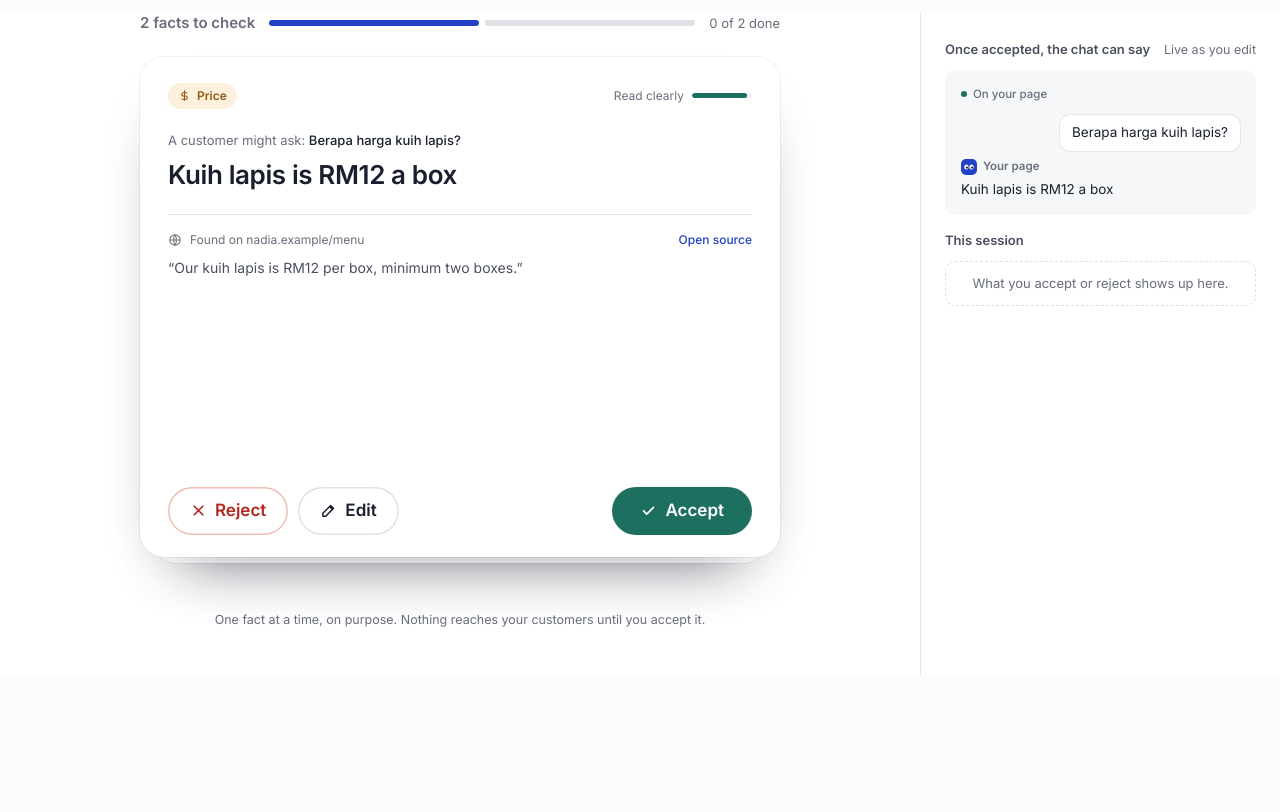
Test case: ReviewQueue › keeps an edited card, showing the corrected claim -- an edit is not an acceptance
Step 1. Click the button "Edit" → x=348, y=510, box [298,486,399,534]
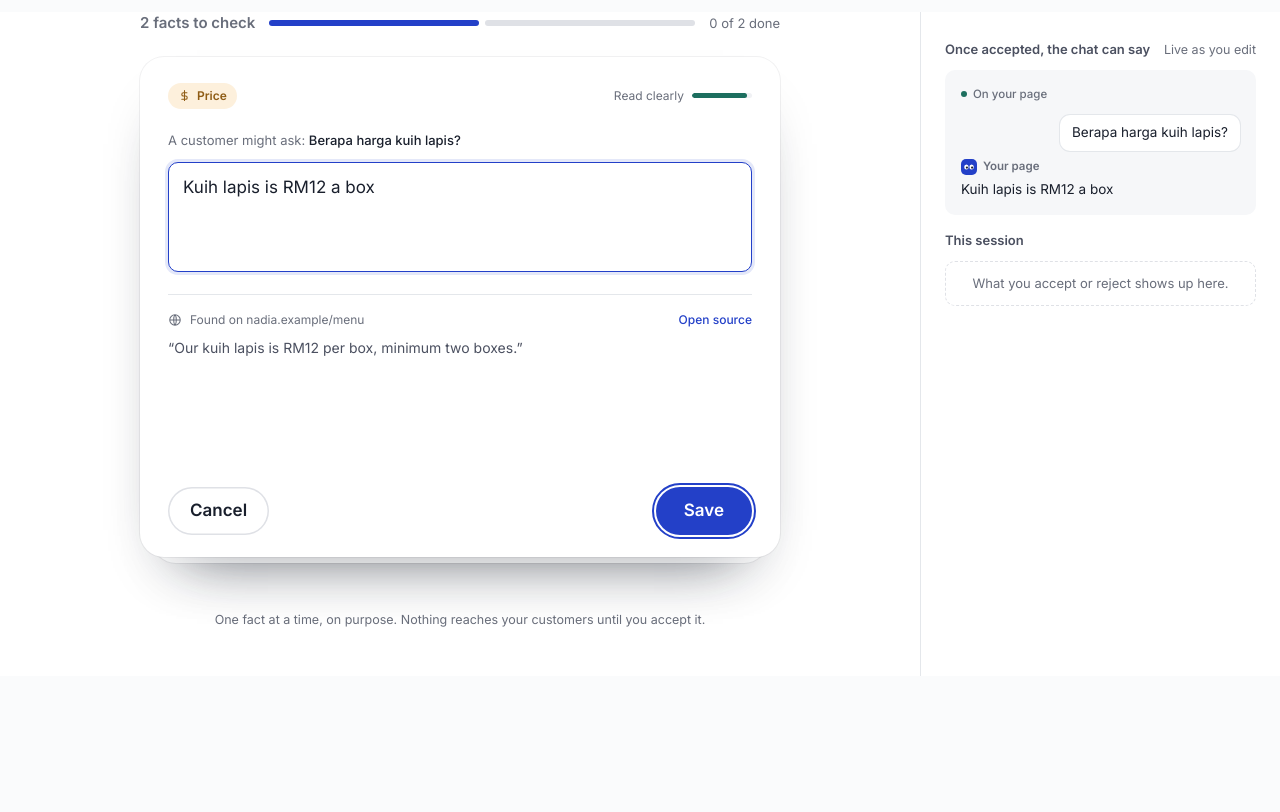
Step 2. Replace the text in the text box with "Kuih lapis is RM14 a box" → x=460, y=217, box [168,162,752,272]
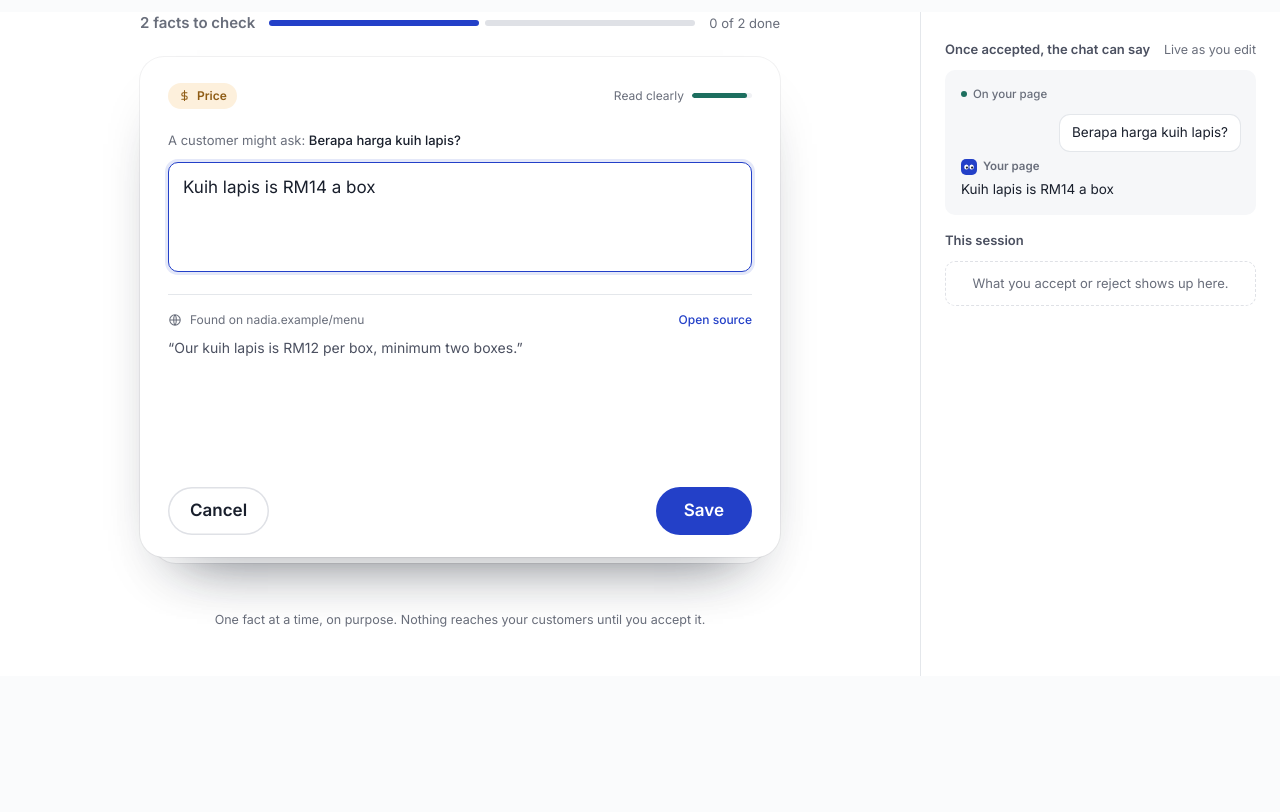
Step 3. Click the button "Save" → x=704, y=510, box [656,486,752,534]
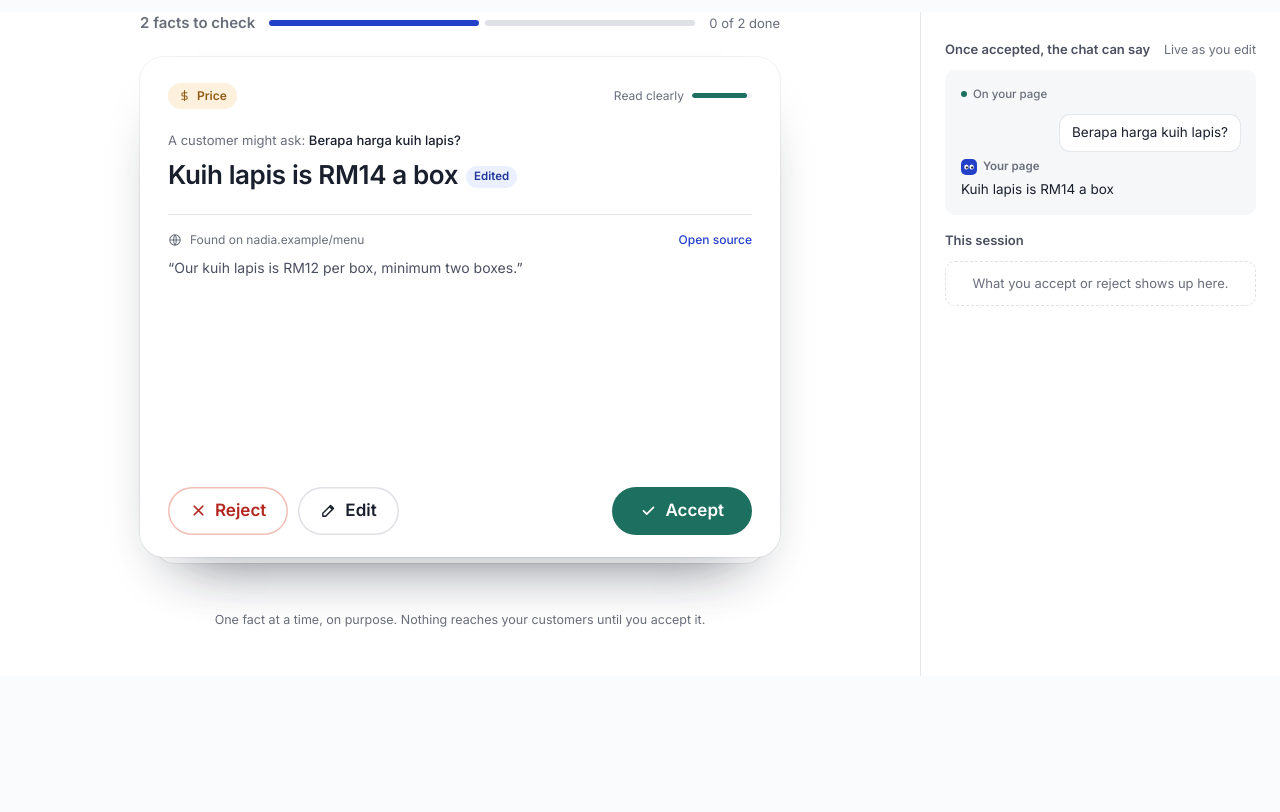
Expected: the text "Open 9am to 6pm, Tuesday to Sunday" is shown, [180,154,625,184]
Expected: the element named "Fact to check" shows "kuih lapis is rm14 a box", [168,159,458,190]
Expected: the text "Edited" is shown, [466,166,517,188]
